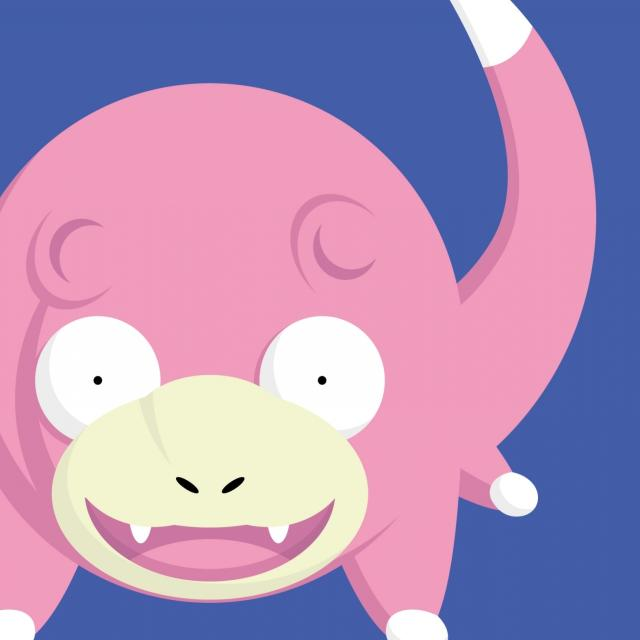Slowpoke: (0, 73, 544, 640)
